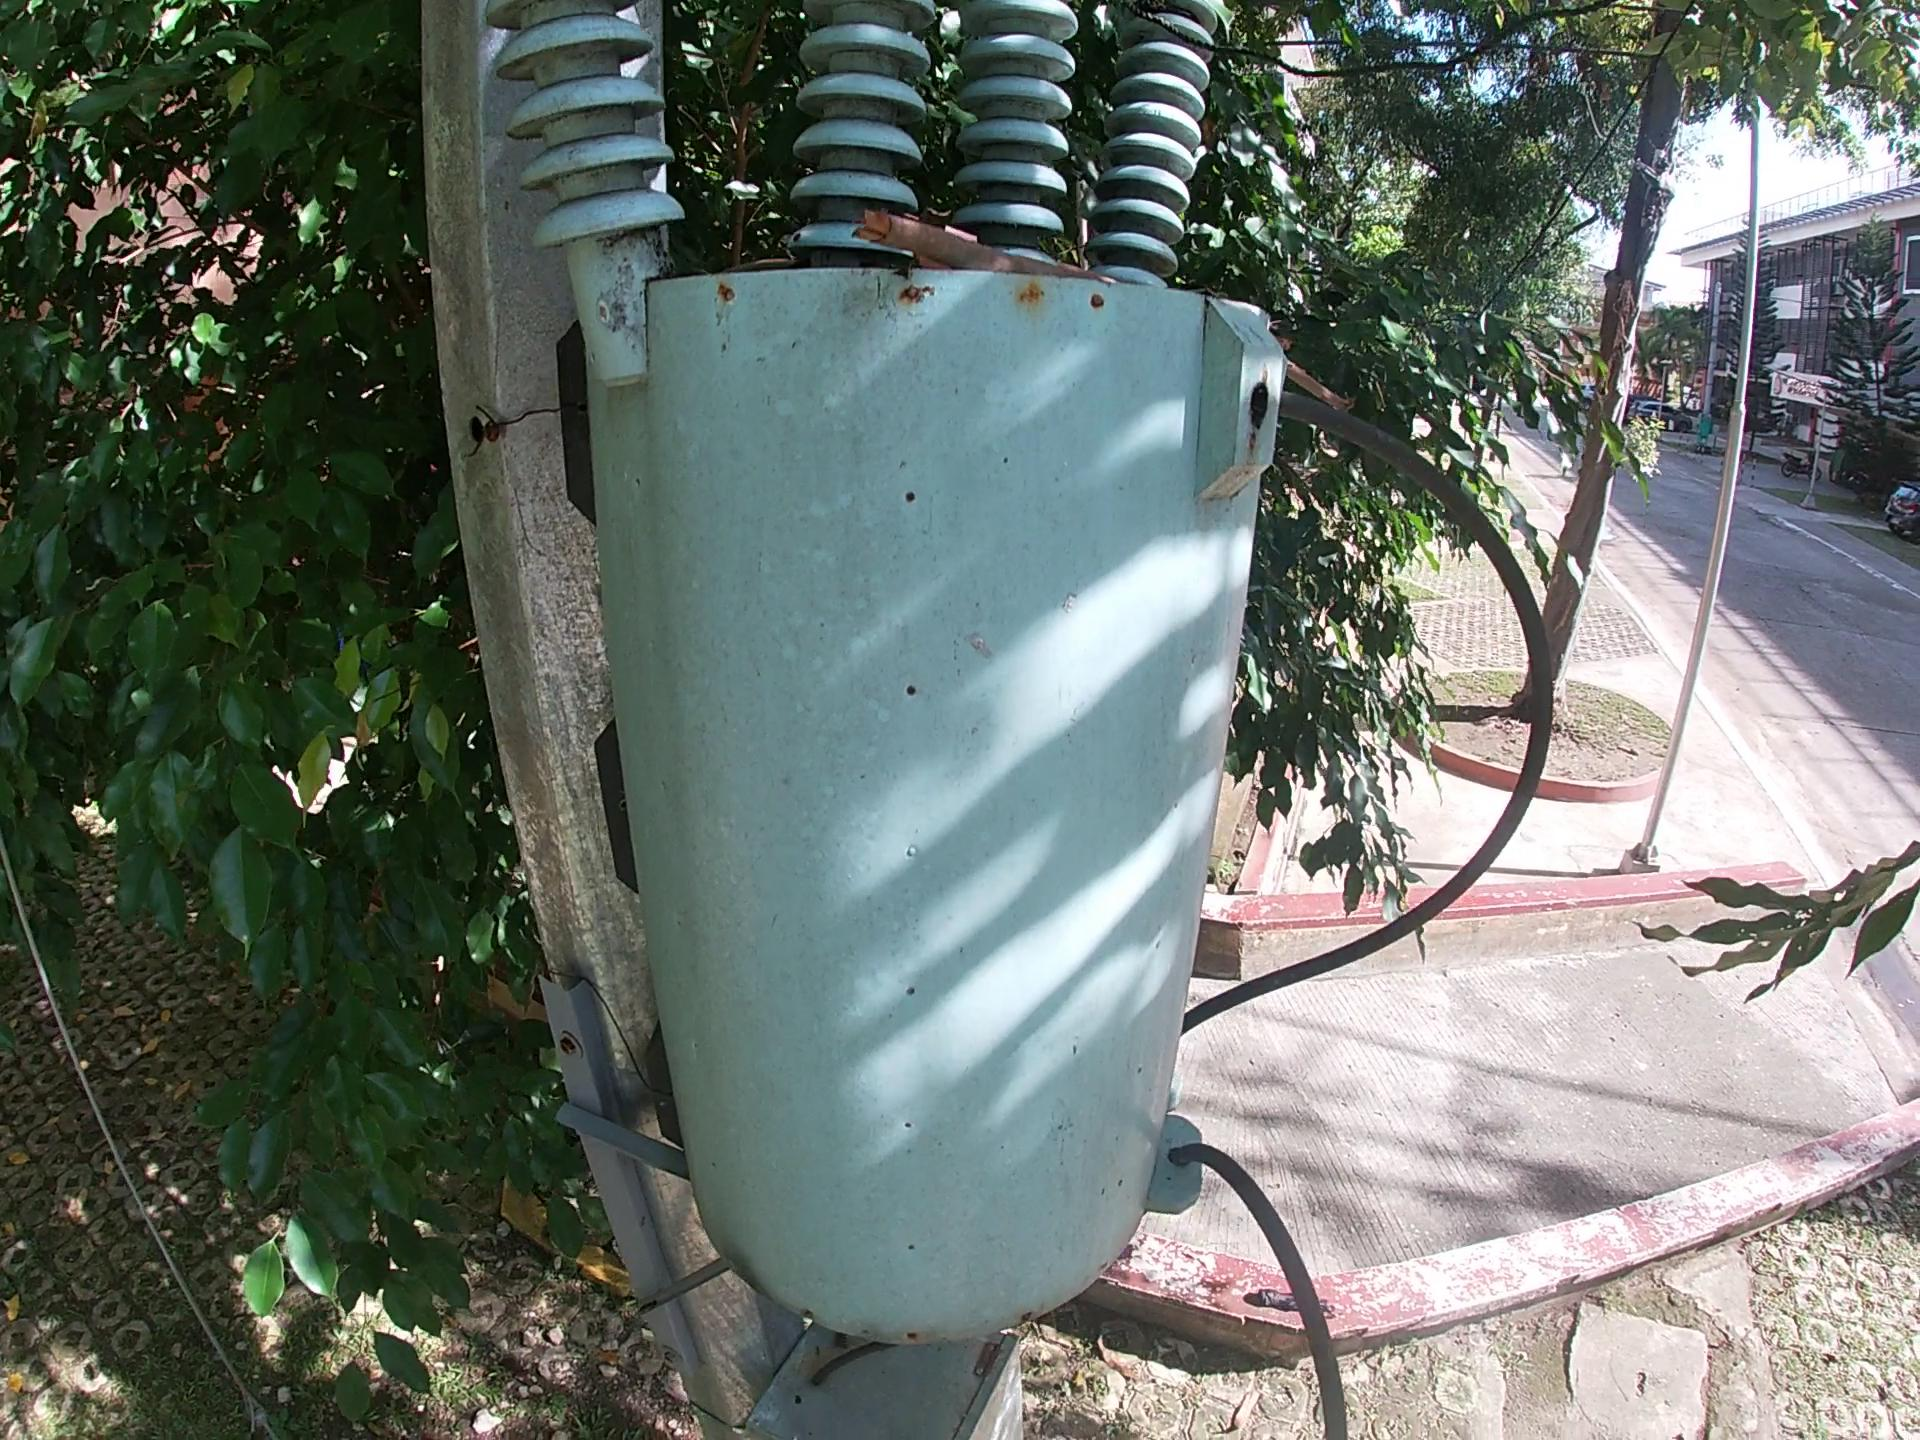tree branch: (848, 209, 1120, 287), (1281, 354, 1359, 411)
